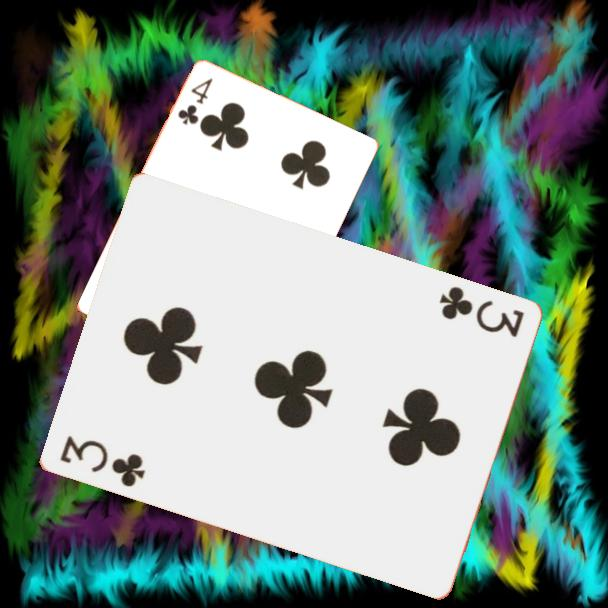c03: (56, 432, 148, 491), (435, 283, 527, 341)
c04: (174, 75, 216, 129)
